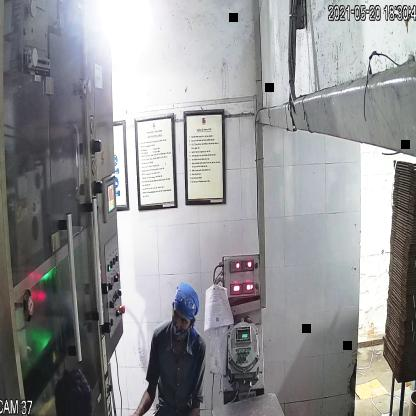no_goggles: (168, 308, 192, 330)
